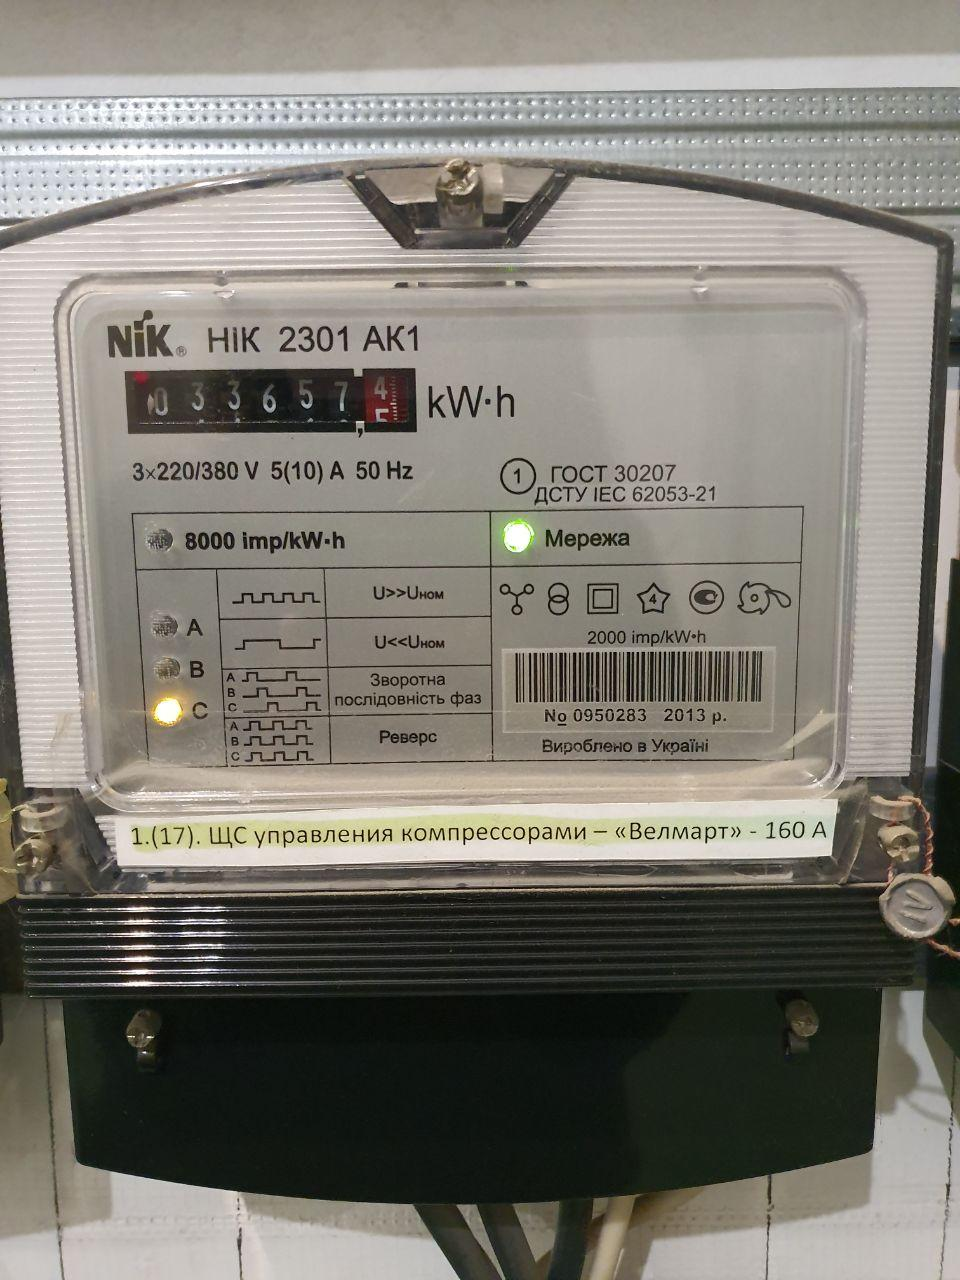0: (151, 383, 172, 420)
3: (189, 379, 208, 414), (225, 378, 243, 413)
4: (372, 373, 391, 403)
5: (295, 376, 317, 412)
6: (259, 381, 279, 416)
7: (332, 378, 350, 414)
screen: (113, 361, 426, 443)
